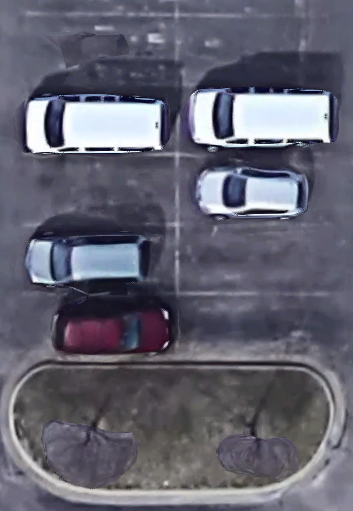Occupied: (22, 155, 178, 225), (22, 225, 177, 295), (178, 155, 331, 225), (177, 87, 331, 155), (25, 88, 178, 155), (22, 295, 177, 358)
Vacant: (178, 15, 331, 87), (25, 15, 177, 87), (177, 225, 330, 294), (177, 294, 331, 358)
